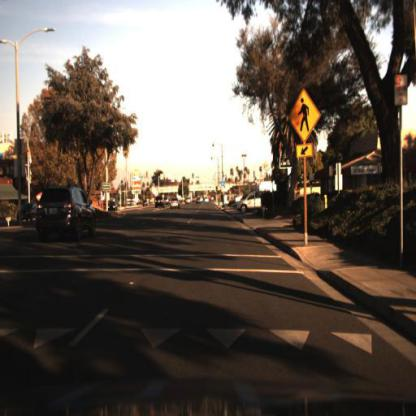car: (35, 184, 106, 245), (233, 190, 266, 216), (140, 195, 152, 211), (170, 197, 181, 213), (172, 194, 183, 210), (155, 195, 167, 209), (154, 196, 166, 209), (164, 197, 172, 209)
